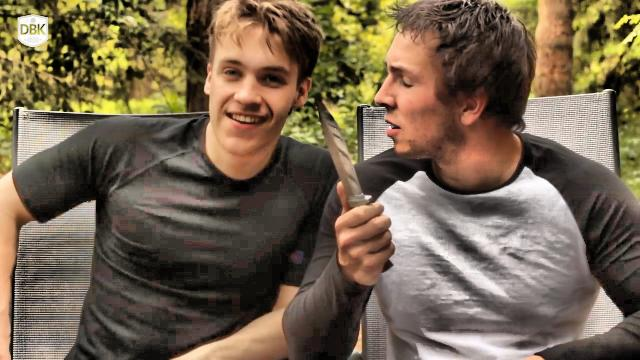knife: (312, 91, 398, 257)
